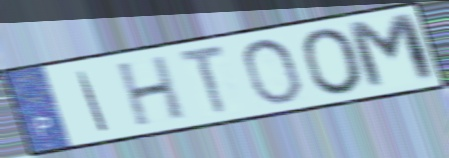H: (115, 52, 189, 131)
I: (73, 68, 112, 133)
M: (342, 10, 443, 94)
O: (298, 25, 369, 97), (238, 35, 305, 107)
T: (176, 41, 231, 118)
